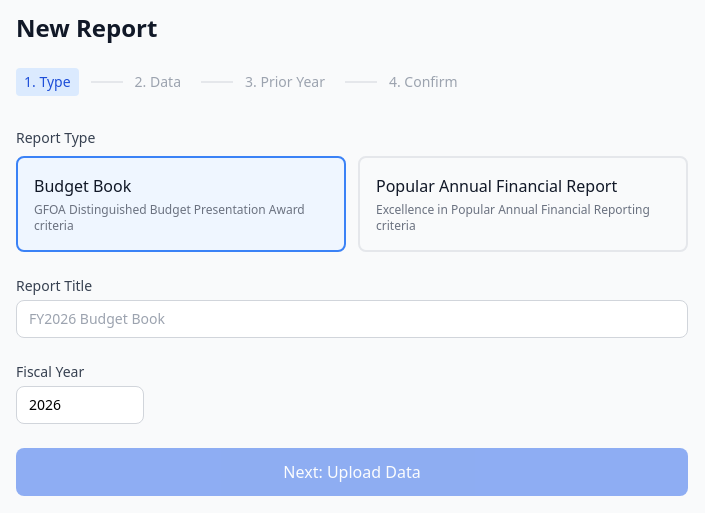
NewReportPage › advances to step 2 showing FileDropZone for data
Type "My Report" into the field with placeholder "FY2026 Budget Book" at (352,319), box [16, 300, 688, 338]
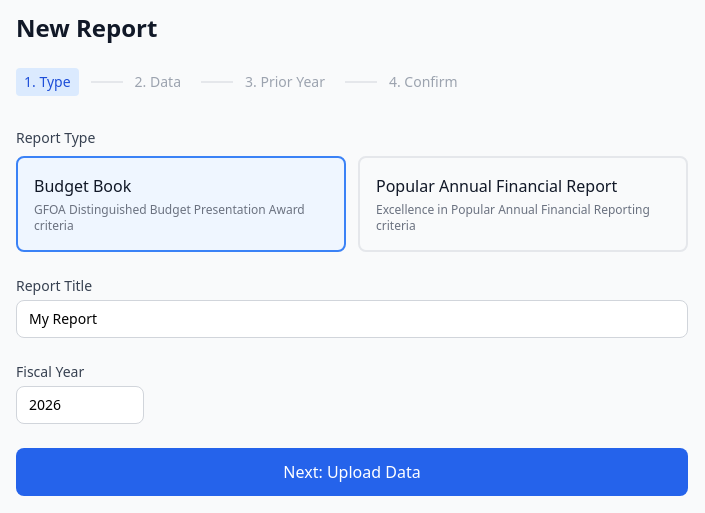
Click the button "Next: Upload Data" at (352,472), box [16, 448, 688, 496]
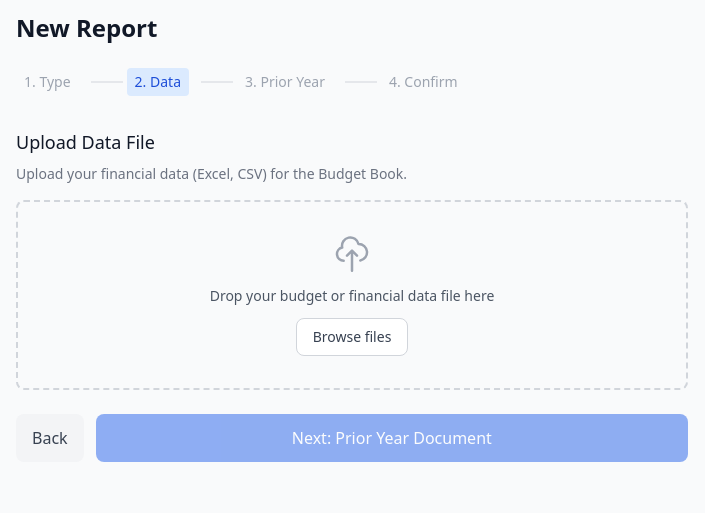
Now the heading "Upload Data File" is shown, box [16, 130, 155, 154]
Now the text "Drop your budget or financial data file here" is shown, box [210, 286, 494, 305]
